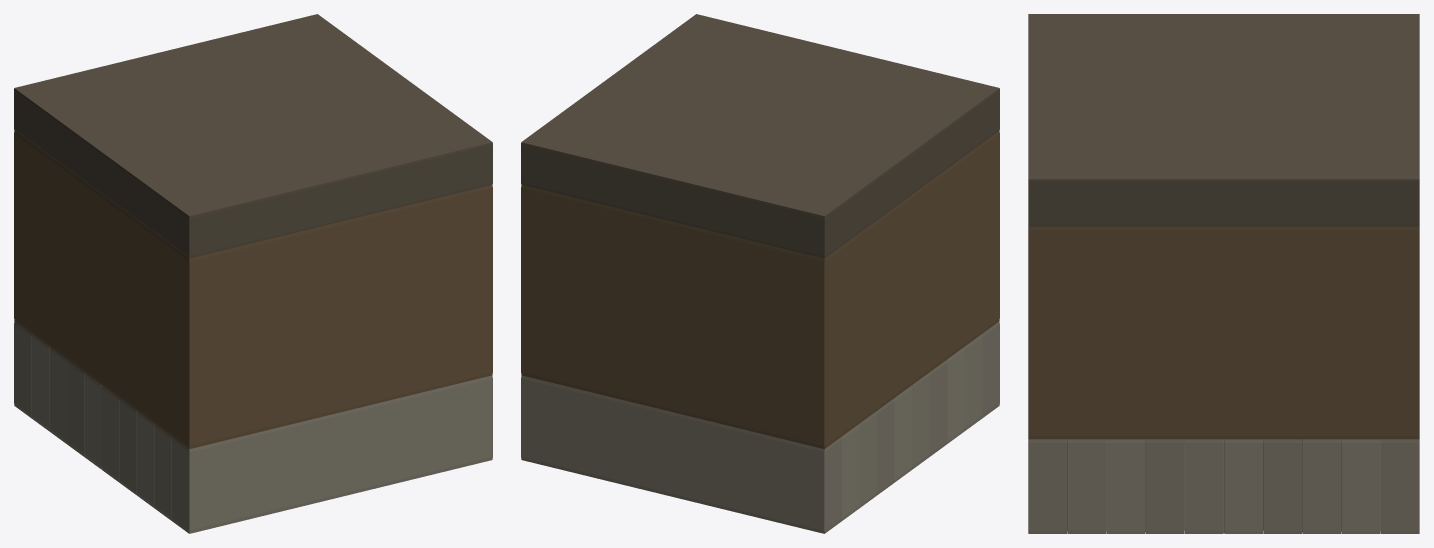
The model's file is SM_Henhouse_Ceiling_Stretch100_A.fbx.
3 views of the same model, side by side, from view 1: azimuth 30°, elevation 25°; view 2: azimuth 150°, elevation 25°; view 3: azimuth 270°, elevation 25° (orthographic). The views are drawn at different scales.
Parts seen in each view (by area): view 1: SM_Henhouse_Ceiling_Stretch100_A; view 2: SM_Henhouse_Ceiling_Stretch100_A; view 3: SM_Henhouse_Ceiling_Stretch100_A.
Part boxes in pixels (x1,y1,x2,y2): SM_Henhouse_Ceiling_Stretch100_A: [14, 14, 492, 533]; SM_Henhouse_Ceiling_Stretch100_A: [521, 14, 999, 533]; SM_Henhouse_Ceiling_Stretch100_A: [1028, 14, 1419, 533].
Size of what is drawn, in the model's own units: 100 by 100 by 100.
